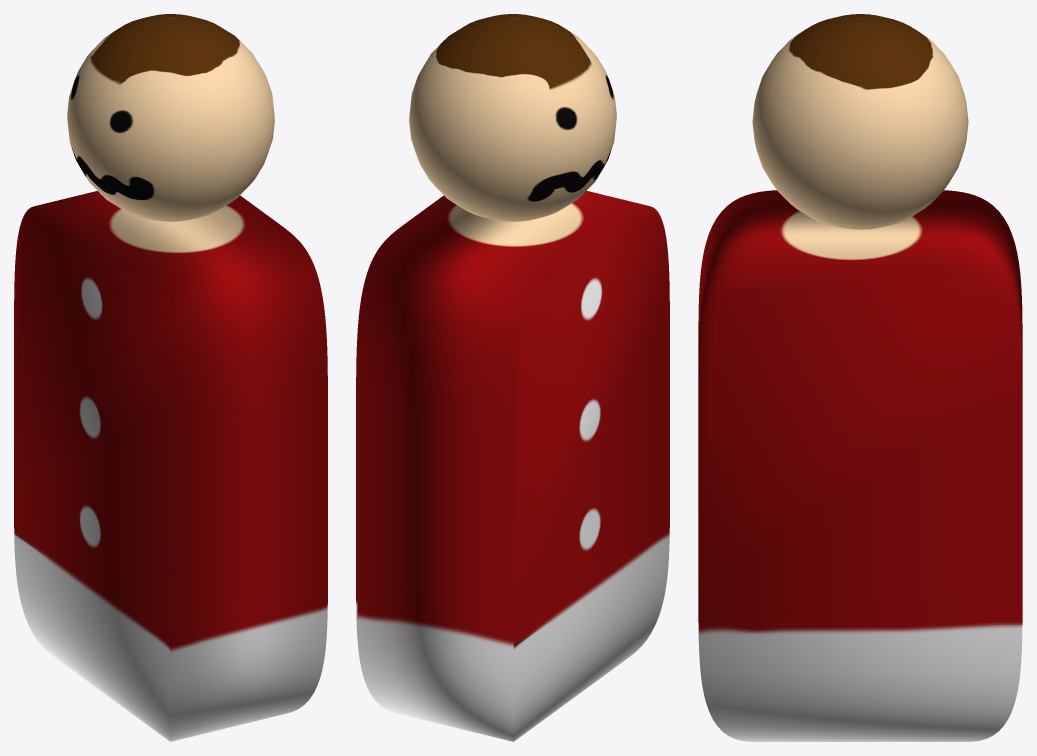
Rendered from skin1.glb.
The picture shows the model from 3 angles, left to right: view 1: azimuth 30°, elevation 25°; view 2: azimuth 150°, elevation 25°; view 3: azimuth 270°, elevation 25°; orthographic projection. The views are drawn at different scales.
Parts seen in each view (by area): view 1: Oberkörper, Kopf; view 2: Oberkörper, Kopf; view 3: Oberkörper, Kopf.
Part boxes in pixels (x1,y1,x2,y2): Oberkörper: [14, 191, 327, 741]; Kopf: [67, 14, 274, 221]; Oberkörper: [356, 190, 669, 741]; Kopf: [409, 14, 616, 221]; Oberkörper: [698, 190, 1022, 741]; Kopf: [752, 14, 968, 229].
Size of the model in its own units: 0.2 by 0.71 by 0.3.
2 materials, 2 textured.
